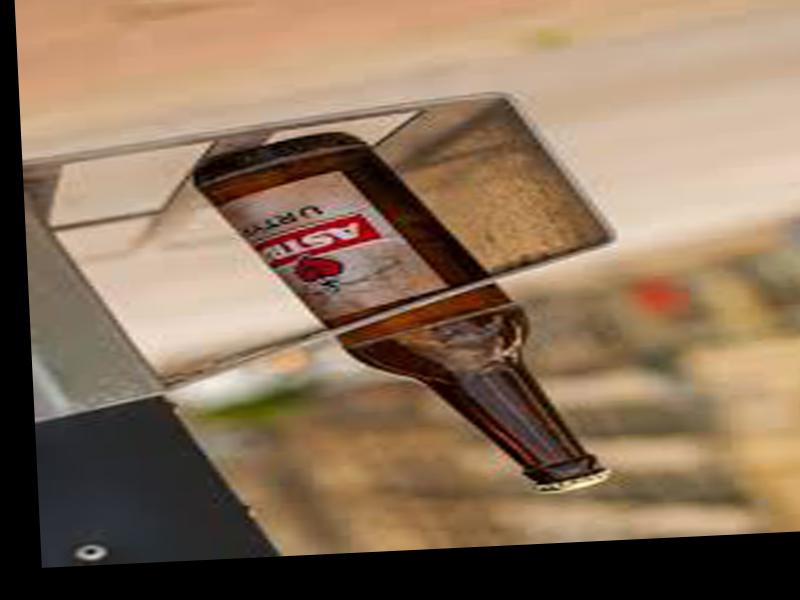Beer: (187, 119, 615, 511)
